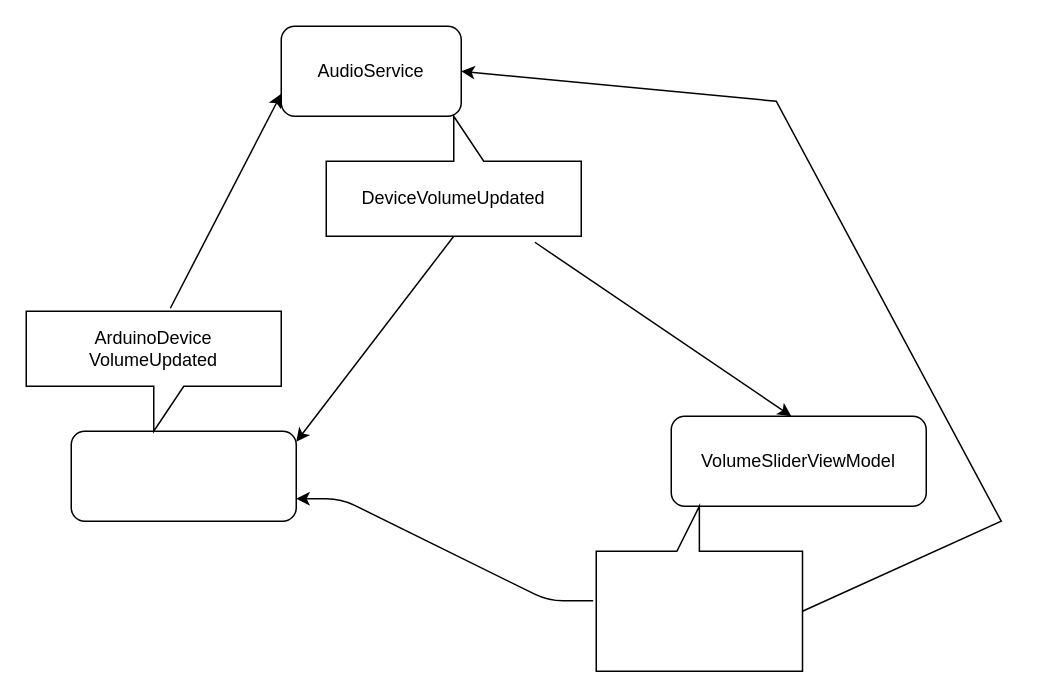
Some shapes in this 1040 by 698 pixel diagram are drawn without their labels. Each missing label, with the box of its shape:
SerialCommunication: (70, 430, 296, 521)
SliderDevice Volume Updated: (595, 505, 802, 671)
